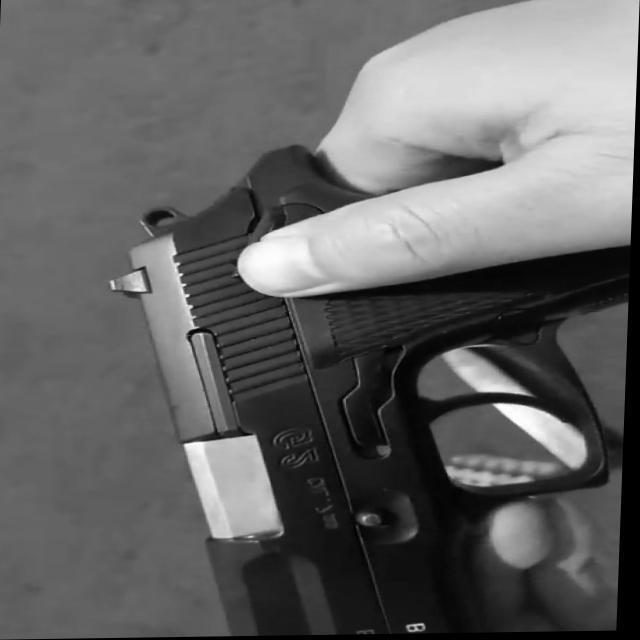handgun: (101, 166, 632, 639)
